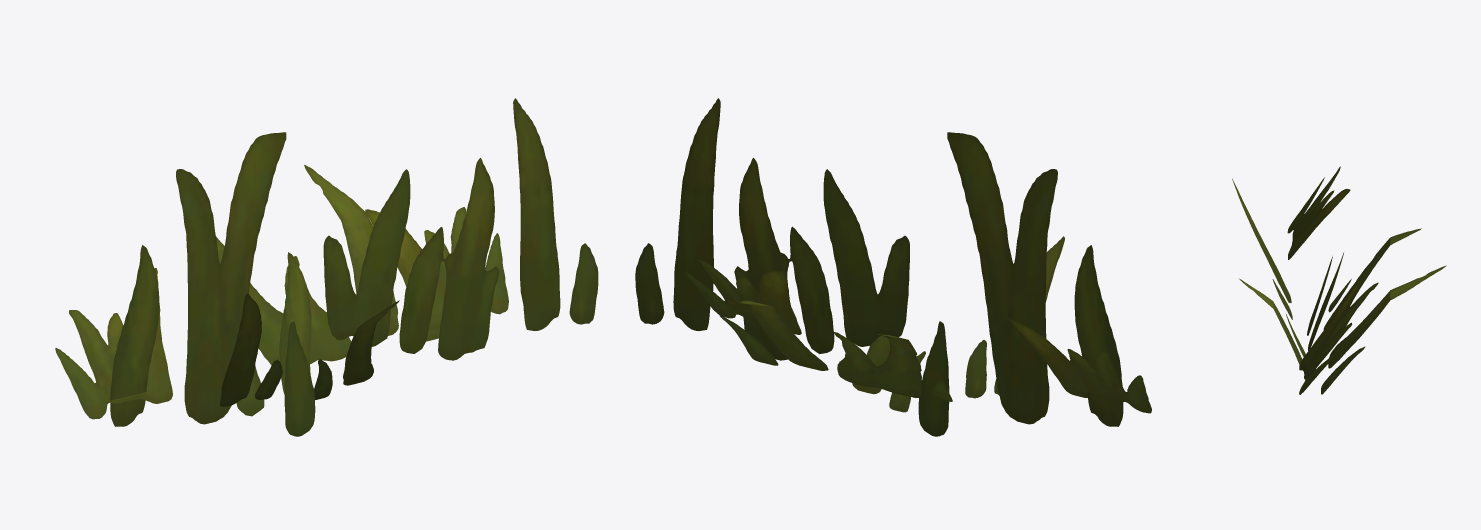
The model's file is grass_09.fbx.
The picture shows the model from 3 angles, left to right: view 1: azimuth 30°, elevation 25°; view 2: azimuth 150°, elevation 25°; view 3: azimuth 270°, elevation 25°; orthographic projection. The views are drawn at different scales.
Visible parts, largest first — view 1: obj0.060; view 2: obj0.060; view 3: obj0.060.
Part boxes in pixels (box(x1,y1,x2,y2)): obj0.060: box(55, 98, 598, 436); obj0.060: box(635, 98, 1151, 436); obj0.060: box(1232, 166, 1446, 394).
Bounding box in the file's own units: 2.67 × 1.81 × 1.33.
